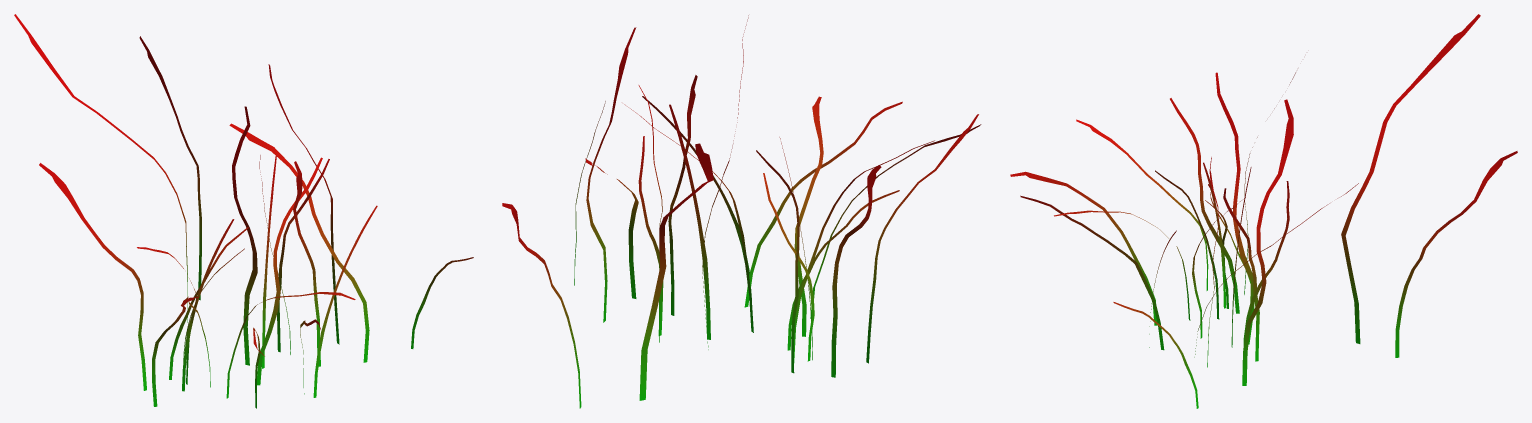
File: Cotton Grass_LOD1_Var9_wlykecdia.fbx
The picture shows the model from 3 angles, left to right: view 1: azimuth 30°, elevation 25°; view 2: azimuth 150°, elevation 25°; view 3: azimuth 270°, elevation 25°; orthographic projection. The views are drawn at different scales.
Parts seen in each view (by area): view 1: _65we_Var9_LOD1; view 2: _65we_Var9_LOD1; view 3: _65we_Var9_LOD1.
Boxes of the visible parts, x1=… form: _65we_Var9_LOD1: x1=14, y1=14, x2=473, y2=408; _65we_Var9_LOD1: x1=502, y1=15, x2=981, y2=408; _65we_Var9_LOD1: x1=1010, y1=14, x2=1517, y2=408.
Bounding box in the file's own units: 20.59 × 17.07 × 28.27.
